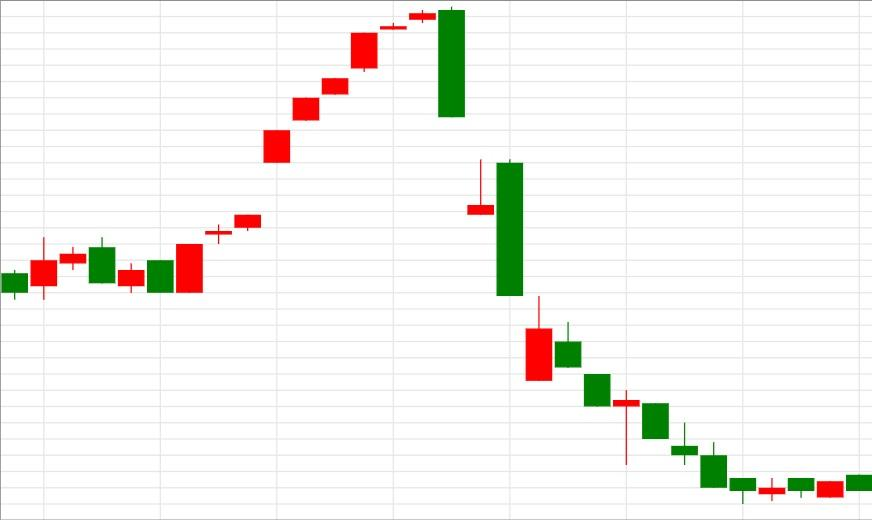bearish_engulfing_fall: (146, 6, 466, 294), (0, 237, 116, 300)
